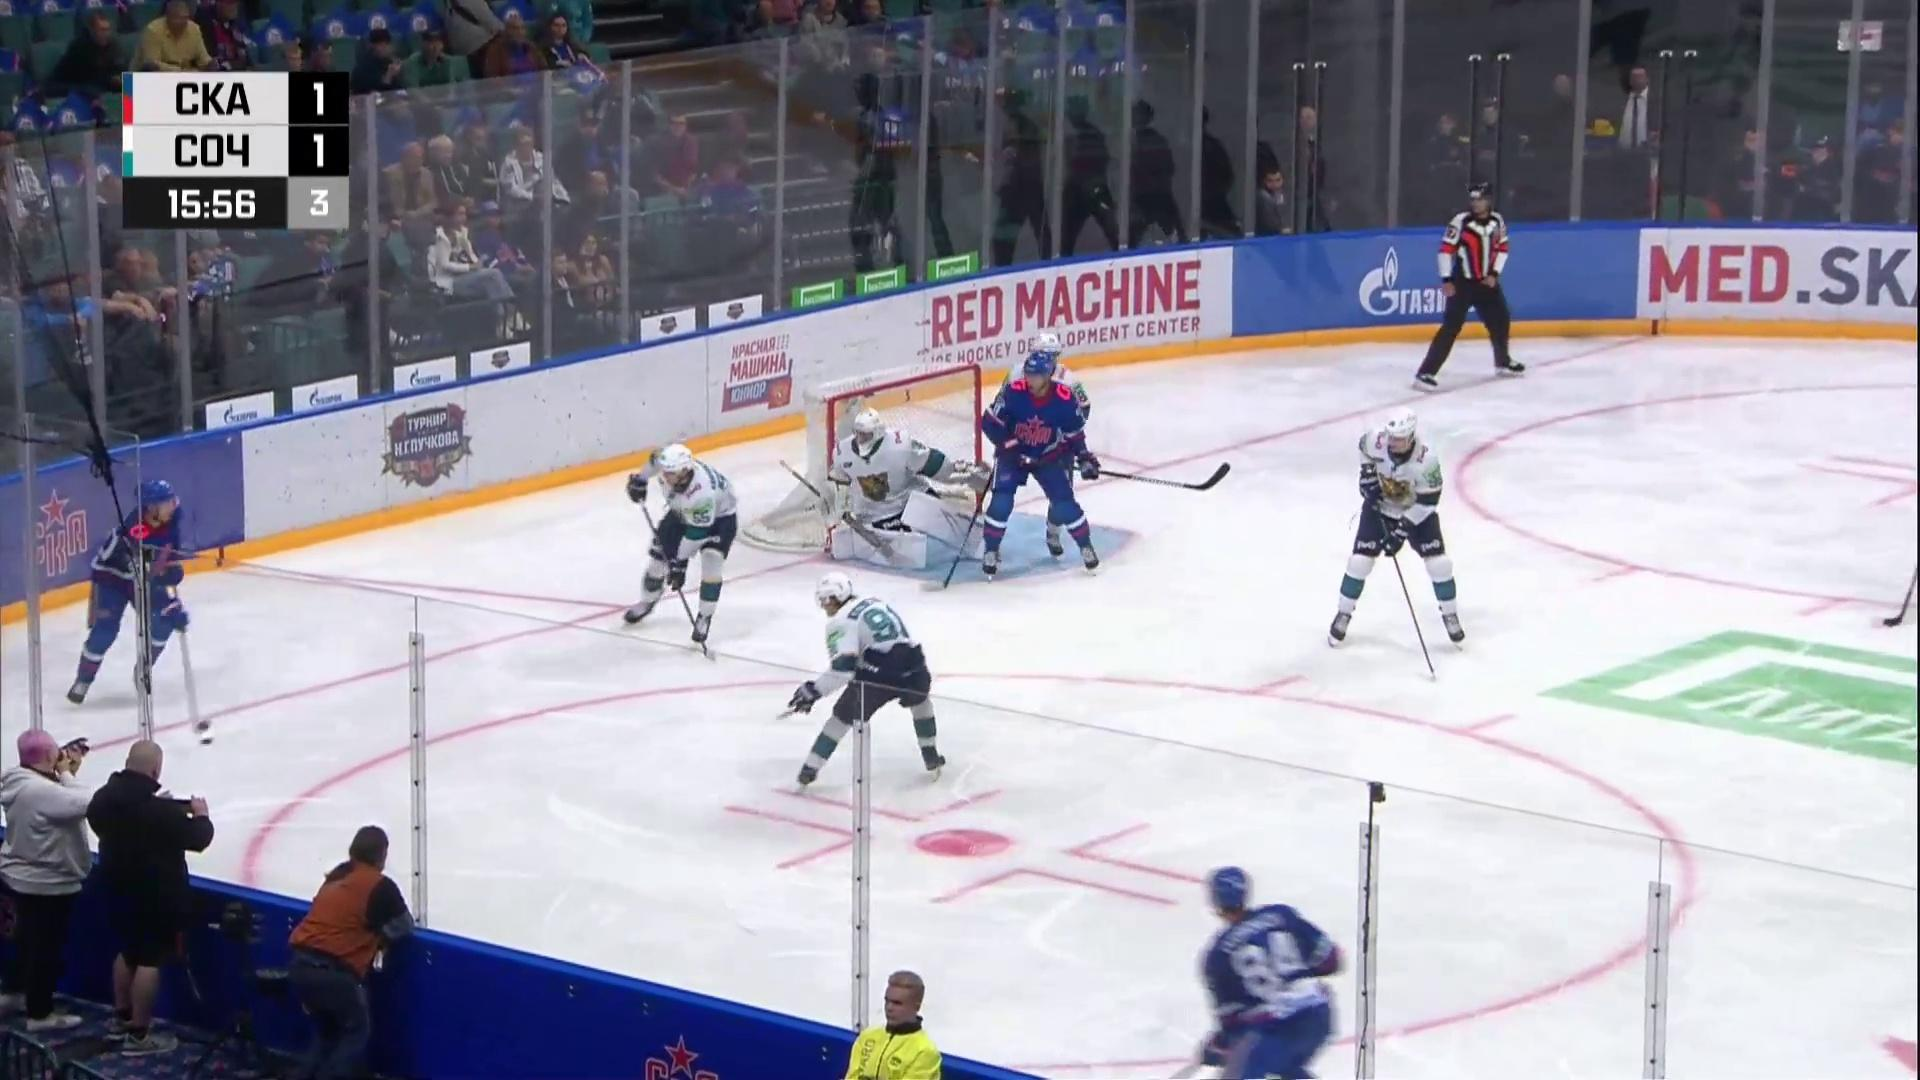ball: (199, 737, 214, 748)
